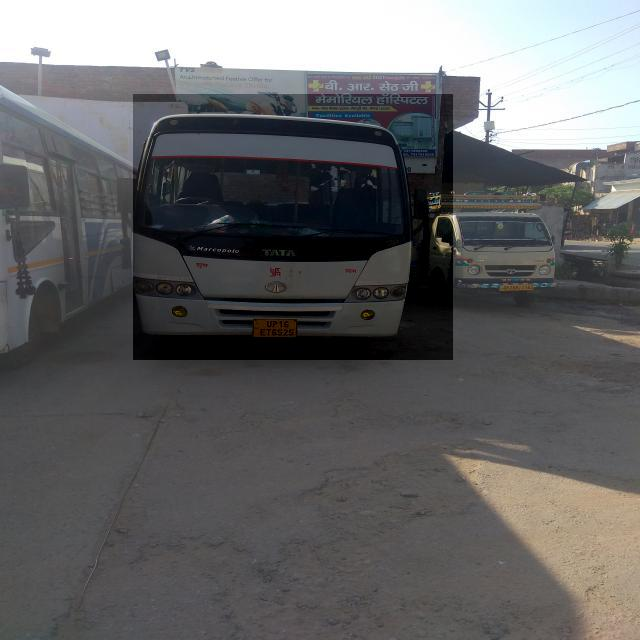Bus: (133, 94, 453, 360)
